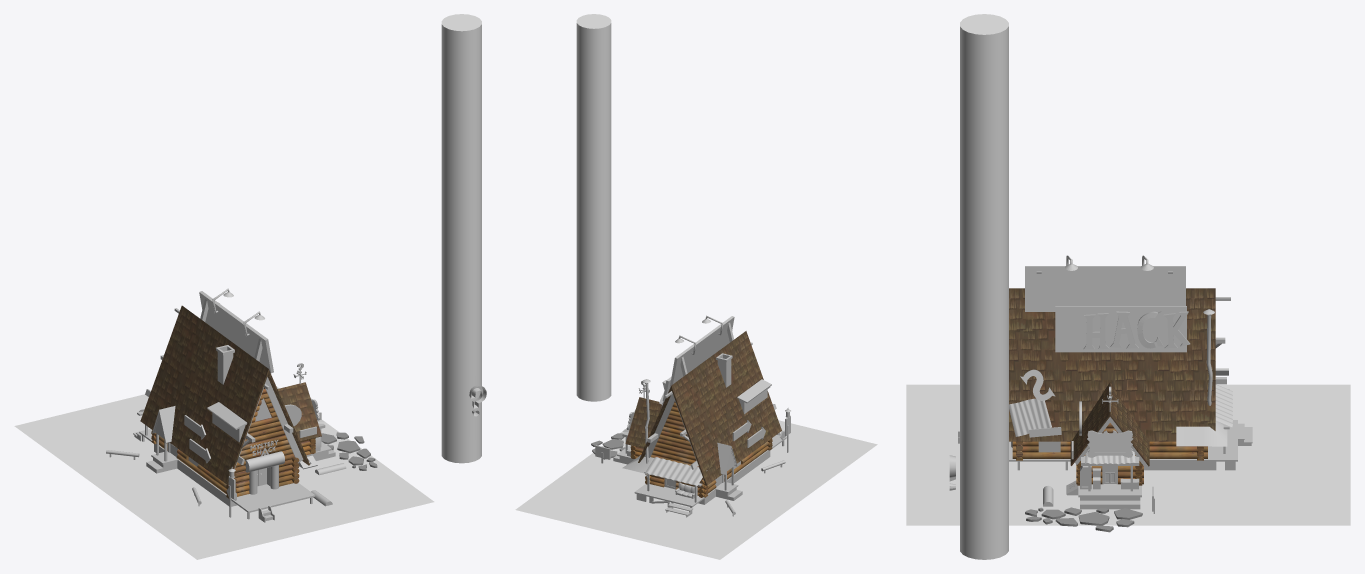
Rendered from mystery shack test GEO B.FBX.
The picture shows the model from 3 angles, left to right: view 1: azimuth 30°, elevation 25°; view 2: azimuth 150°, elevation 25°; view 3: azimuth 270°, elevation 25°; orthographic projection. The views are drawn at different scales.
Parts seen in each view (by area): view 1: ground plane, front ? tree, roof, mystery backboard, front plane, main deck, gift shop roof, roof hangout, side door steps, front wall, main border trim, side wall (+1 smaller); view 2: ground plane, front ? tree, roof, back plane, mystery backboard, gift shop roof, main deck, back roof, roof hangout, side door steps, side wall; view 3: ground plane, front ? tree, roof, mystery backboard, shack backboard, gift shop roof, Shack, gift side wall, roof metal plate, main deck, gift shop sign, back roof corner (+4 smaller).
Boxes of the visible parts, x1=… form: ground plane: x1=14, y1=386, x2=434, y2=559; front ? tree: x1=441, y1=14, x2=481, y2=463; roof: x1=140, y1=305, x2=310, y2=484; mystery backboard: x1=199, y1=291, x2=273, y2=373; front plane: x1=234, y1=387, x2=294, y2=472; main deck: x1=139, y1=429, x2=315, y2=512; gift shop roof: x1=277, y1=382, x2=321, y2=441; roof hangout: x1=207, y1=402, x2=247, y2=442; side door steps: x1=146, y1=444, x2=237, y2=506; front wall: x1=226, y1=459, x2=299, y2=498; main border trim: x1=234, y1=377, x2=303, y2=469; side wall: x1=151, y1=432, x2=236, y2=498; ground plane: x1=515, y1=420, x2=877, y2=559; front ? tree: x1=576, y1=14, x2=611, y2=401; roof: x1=638, y1=331, x2=781, y2=485; back plane: x1=651, y1=401, x2=698, y2=466; mystery backboard: x1=670, y1=316, x2=734, y2=386; gift shop roof: x1=625, y1=397, x2=661, y2=448; main deck: x1=634, y1=435, x2=786, y2=507; back roof: x1=645, y1=457, x2=707, y2=485; roof hangout: x1=737, y1=379, x2=771, y2=414; side door steps: x1=698, y1=450, x2=770, y2=504; side wall: x1=698, y1=440, x2=772, y2=497; ground plane: x1=906, y1=384, x2=1350, y2=525; front ? tree: x1=960, y1=14, x2=1008, y2=559; roof: x1=1009, y1=288, x2=1215, y2=441; mystery backboard: x1=1025, y1=266, x2=1185, y2=311; shack backboard: x1=1055, y1=306, x2=1186, y2=352; gift shop roof: x1=1070, y1=382, x2=1149, y2=466; Shack: x1=1083, y1=311, x2=1190, y2=349; gift side wall: x1=1012, y1=441, x2=1207, y2=458; roof metal plate: x1=1009, y1=398, x2=1051, y2=436; main deck: x1=1009, y1=420, x2=1237, y2=461; gift shop sign: x1=1087, y1=430, x2=1133, y2=457; back roof corner: x1=1176, y1=420, x2=1227, y2=446.
Bounding box in the file's own units: 3163 × 4279 × 3186.
